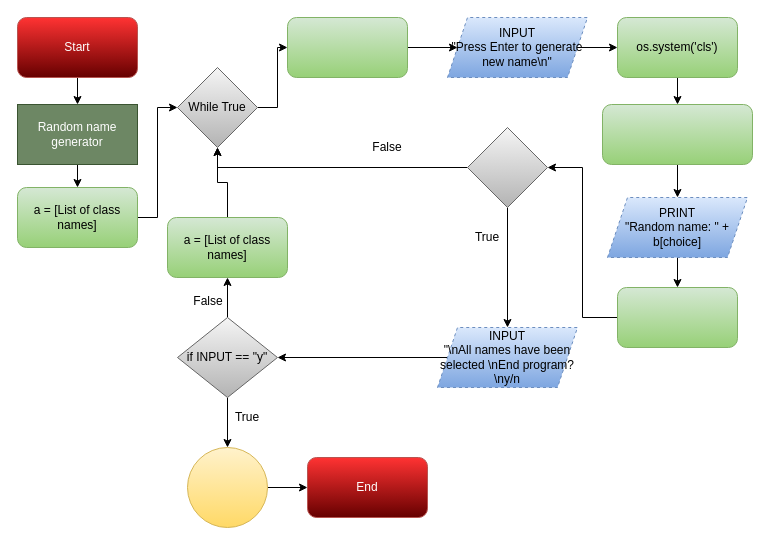
Image size: 770x545. Some labels were removed from this diagram. Each missing label, with the centre of its shape:
"b = a" belongs at point 347,47.
"b.remove(b[choice])" belongs at point 677,317.
"Break" belongs at point 227,487.
"choice = random.randint(0,len(b)-1)" belongs at point 677,134.
"if len(b) <= 0" belongs at point 507,167.
